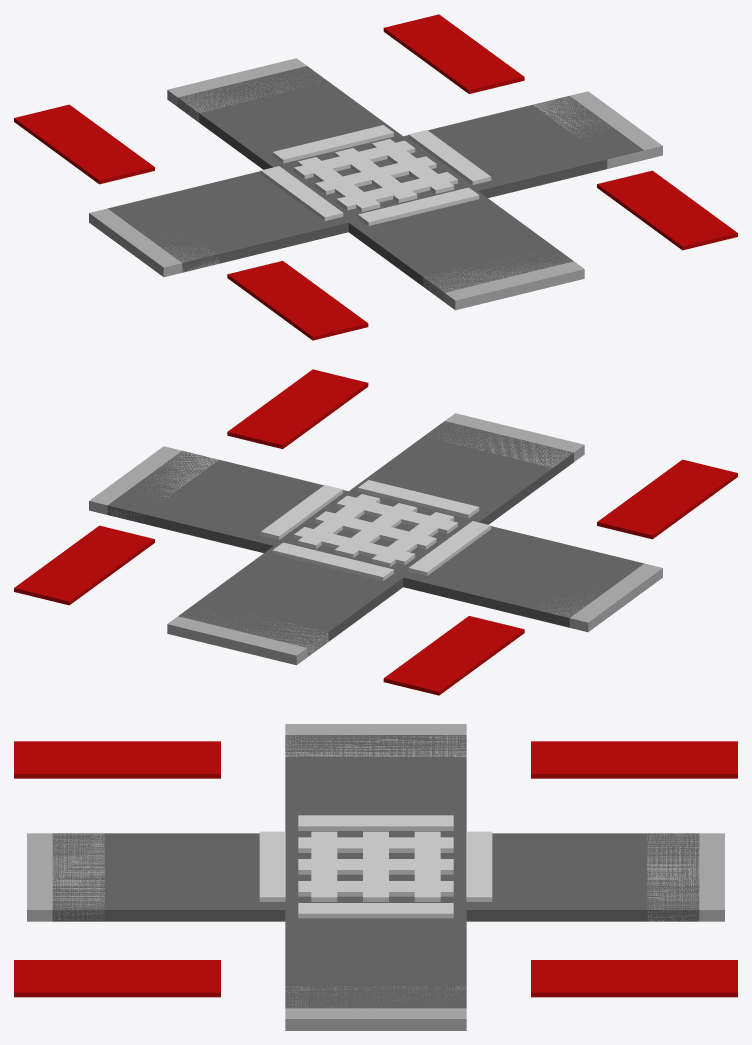
File: intersection_model_firstpass.glb
3 renders of one model, top to bottom at view 1: azimuth 30°, elevation 25°; view 2: azimuth 150°, elevation 25°; view 3: azimuth 270°, elevation 25°, orthographic. The views are drawn at different scales.
Parts seen in each view (by area): view 1: world; view 2: world; view 3: world.
Part boxes in pixels (<box>): world: <box>14,14,737,340</box>; world: <box>14,369,737,695</box>; world: <box>14,724,737,1030</box>.
Bounding box in the file's own units: 2.7 × 0.08 × 2.8.
